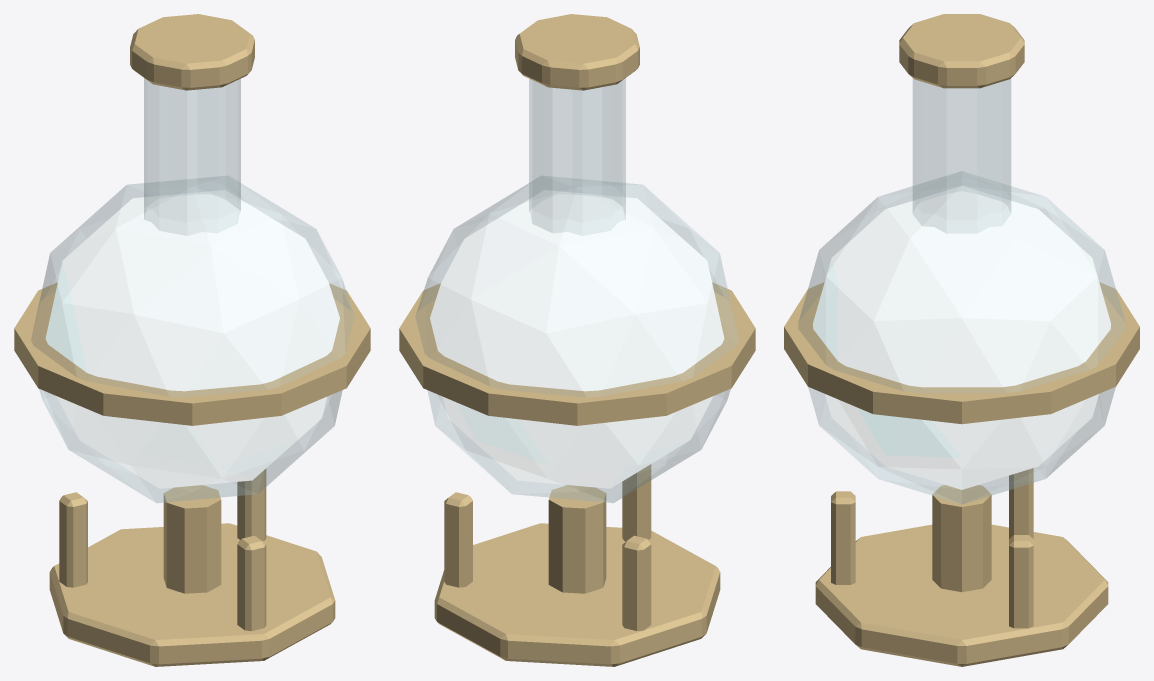
The model's file is In_Flask.fbx.
The picture shows the model from 3 angles, left to right: view 1: azimuth 30°, elevation 25°; view 2: azimuth 150°, elevation 25°; view 3: azimuth 270°, elevation 25°; orthographic projection.
Parts seen in each view (by area): view 1: In_Flask, Liquid.001; view 2: In_Flask, Liquid.001; view 3: In_Flask, Liquid.001.
Part boxes in pixels (x1,y1,x2,y2): In_Flask: [14, 14, 370, 666]; Liquid.001: [45, 190, 339, 488]; In_Flask: [399, 14, 755, 666]; Liquid.001: [430, 190, 724, 488]; In_Flask: [784, 14, 1139, 666]; Liquid.001: [813, 186, 1110, 489].
Size of the model in its own units: 0.72 by 1.27 by 0.72.
